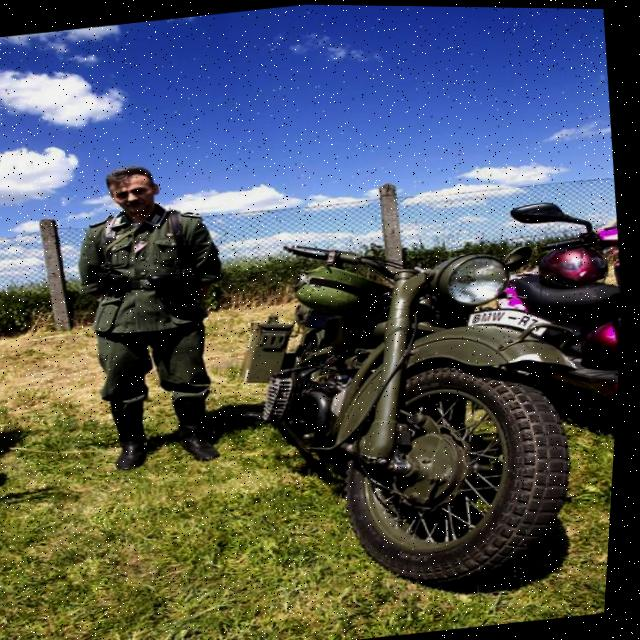motorcycle: (189, 185, 629, 612)
